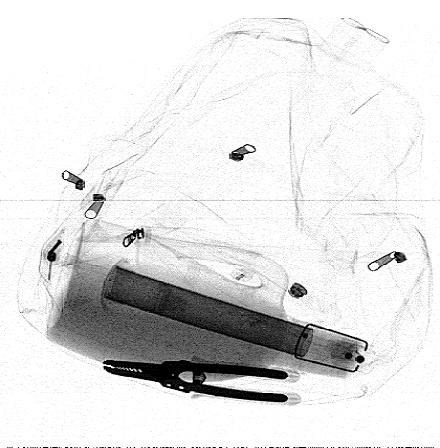Pliers: (102, 358, 293, 402)
